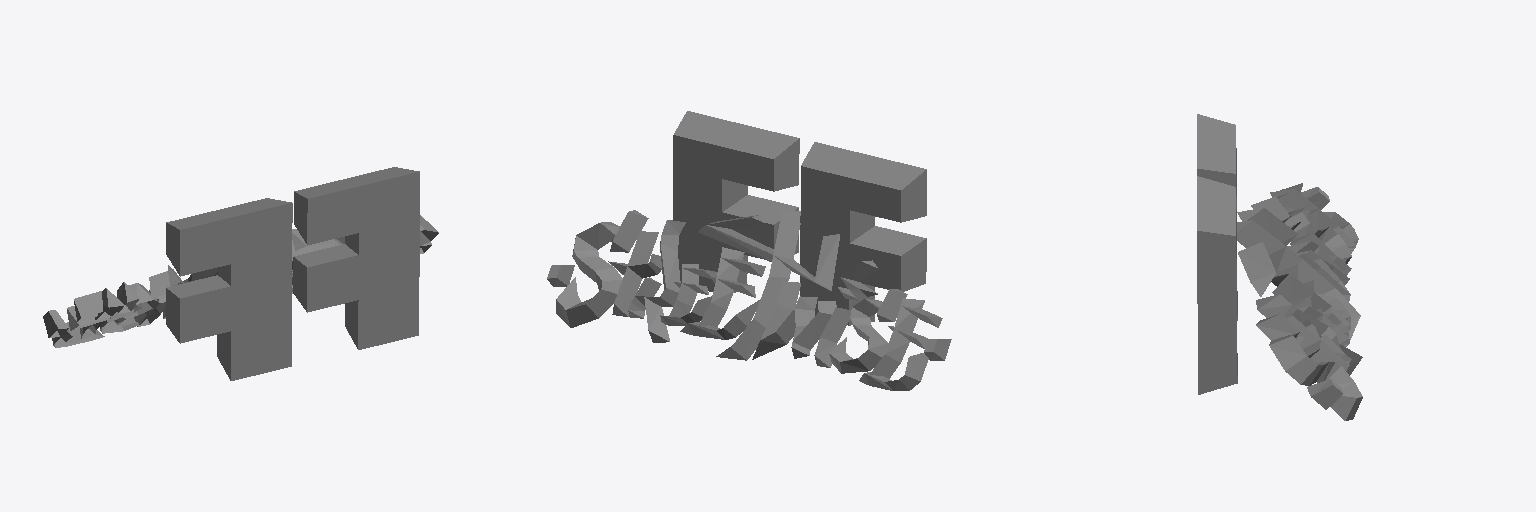
3 views of the same model, side by side, from view 1: azimuth 30°, elevation 25°; view 2: azimuth 150°, elevation 25°; view 3: azimuth 270°, elevation 25° (orthographic).
Bounding box in the file's own units: 4.97 × 2.1 × 1.86.
Materials: 1 (1 with a texture image).